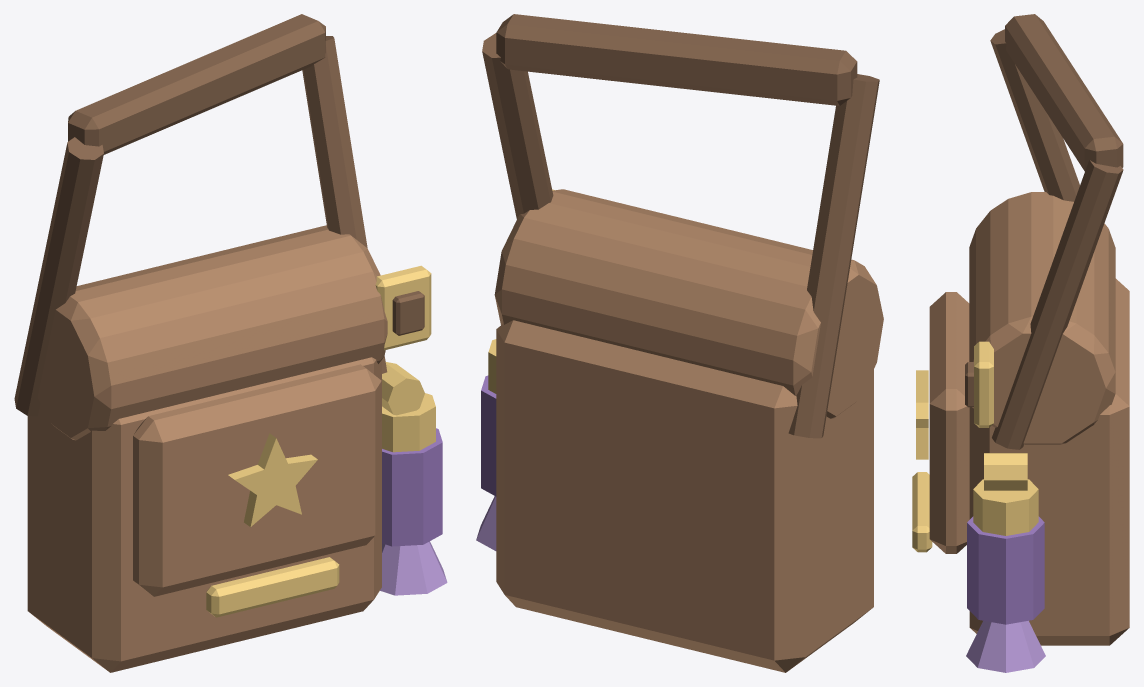
3 renders of one model, left to right at view 1: azimuth 30°, elevation 25°; view 2: azimuth 150°, elevation 25°; view 3: azimuth 270°, elevation 25°, orthographic. The views are drawn at different scales.
Parts seen in each view (by area): view 1: rolled top cylinder flap hinge, front flap soft trapezoid block, rounded square leather bag body, blocky leather strap top, left leather strap side, right leather strap side, purple potion gem body, lower gold chevron trim, simple gold star charm on satchel flap, purple potion point bottom, small gold side buckle outer, tiny potion gold cap (+2 smaller); view 2: rounded square leather bag body, rolled top cylinder flap hinge, blocky leather strap top, left leather strap side, right leather strap side, purple potion gem body, purple potion point bottom; view 3: rounded square leather bag body, rolled top cylinder flap hinge, right leather strap side, front flap soft trapezoid block, blocky leather strap top, purple potion gem body, left leather strap side, purple potion point bottom, tiny potion gold cap, small gold side buckle outer, gold ring holding potion, lower gold chevron trim (+2 smaller).
Boxes of the visible parts, x1,y1,x2,y2 form: rolled top cylinder flap hinge: (37,225,387,440); front flap soft trapezoid block: (133,364,381,596); rounded square leather bag body: (27,357,381,672); blocky leather strap top: (68,14,325,154); left leather strap side: (14,137,103,416); right leather strap side: (302,36,387,373); purple potion gem body: (382,428,442,546); lower gold chevron trim: (206,557,339,617); simple gold star charm on satchel flap: (228,433,317,526); purple potion point bottom: (380,541,447,595); small gold side buckle outer: (375,265,431,350); tiny potion gold cap: (382,393,435,452); rounded square leather bag body: (496,320,873,672); rolled top cylinder flap hinge: (494,189,883,418); blocky leather strap top: (496,14,857,105); left leather strap side: (788,74,879,438); right leather strap side: (482,33,553,218); purple potion gem body: (481,375,496,496); purple potion point bottom: (476,496,496,550); rounded square leather bag body: (969,278,1129,645); rolled top cylinder flap hinge: (969,192,1115,444); right leather strap side: (992,160,1123,449); front flap soft trapezoid block: (929,292,969,553); blocky leather strap top: (1005,14,1123,171); purple potion gem body: (967,516,1044,624); left leather strap side: (990,29,1079,201); purple potion point bottom: (966,620,1045,672); tiny potion gold cap: (973,479,1038,535); small gold side buckle outer: (974,341,993,427); gold ring holding potion: (984,453,1027,490); lower gold chevron trim: (912,472,932,552).
Size of the model in its own units: 1.11 by 1.55 by 0.5975.
